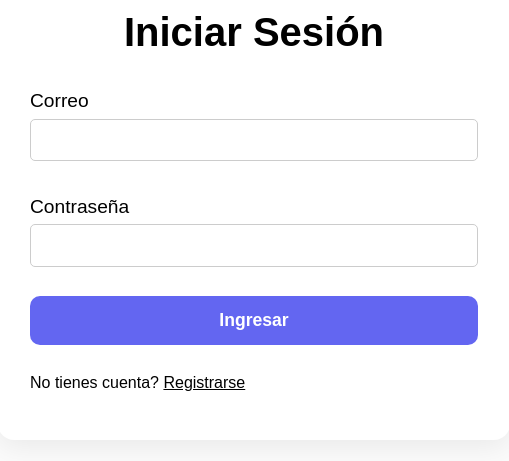
Login Page › Validation Password Input › should have an error message if the password is invalid
Step 1. Type "123" into the password field labelled "Contraseña" → (254, 246), box [30, 225, 478, 267]
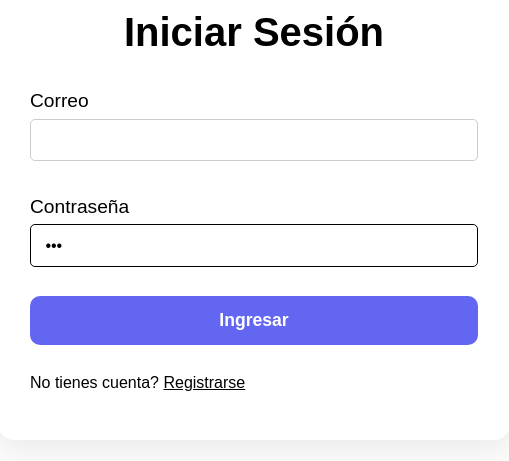
Step 2. Click the submit button → (254, 321), box [30, 296, 478, 345]
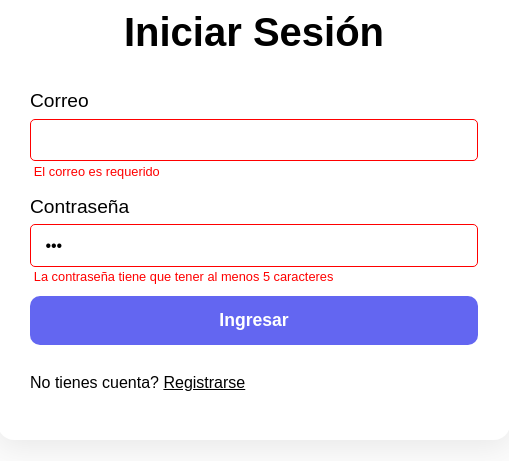
Now the text "El correo es requerido" is shown, box [30, 161, 160, 179]
Now the text "La contraseña tiene que tener al menos 5 caracteres" is shown, box [30, 267, 333, 284]
